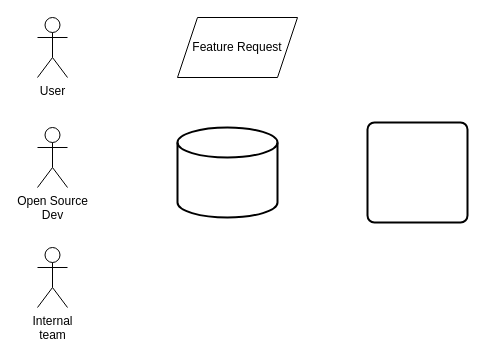
This 486x361 diagram has some shape labels left out. The centre of each missing label's shape, as x and y in pixels:
"Backlog segregation" belongs at (x=417, y=172).
"Feature Request Backlog" belongs at (x=227, y=172).
